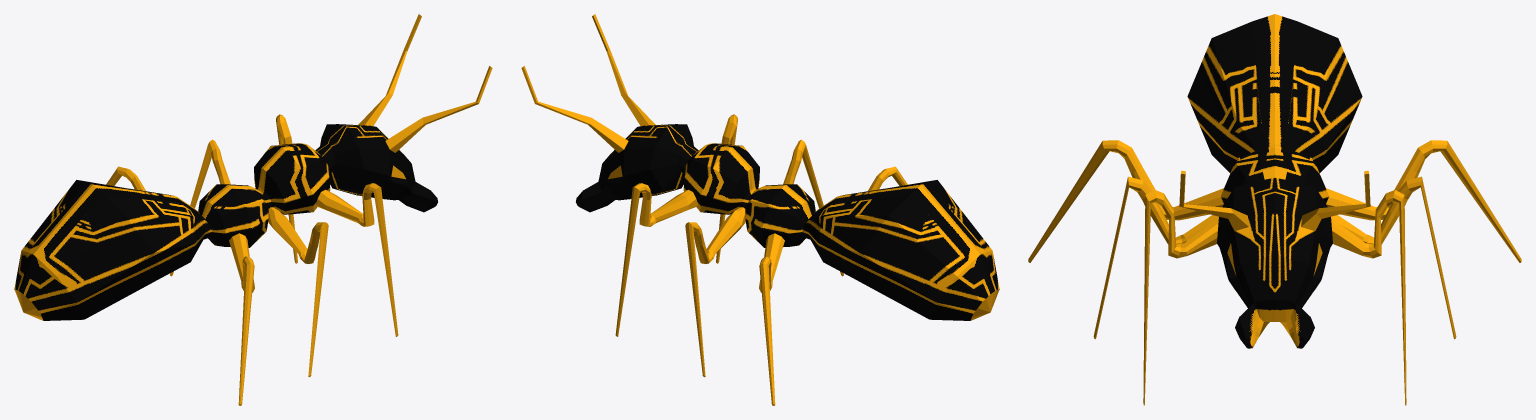
File: ant.fbx
3 views of the same model, side by side, from view 1: azimuth 30°, elevation 25°; view 2: azimuth 150°, elevation 25°; view 3: azimuth 270°, elevation 25° (orthographic). The views are drawn at different scales.
Parts seen in each view (by area): view 1: Sphere; view 2: Sphere; view 3: Sphere.
Part boxes in pixels (<box>): Sphere: <box>14,14,492,405</box>; Sphere: <box>521,14,999,405</box>; Sphere: <box>1028,14,1521,405</box>.
Bounding box in the file's own units: 731 × 375 × 550.
Materials: 1 (1 with a texture image).
